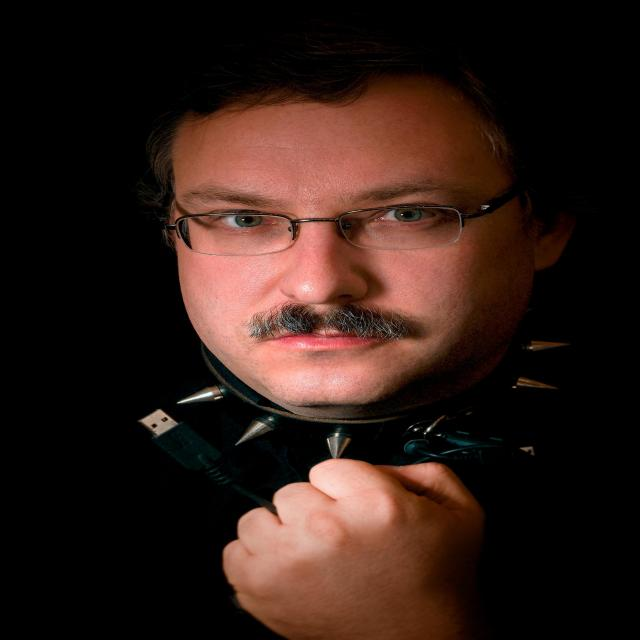no-glass: (208, 200, 437, 225)
